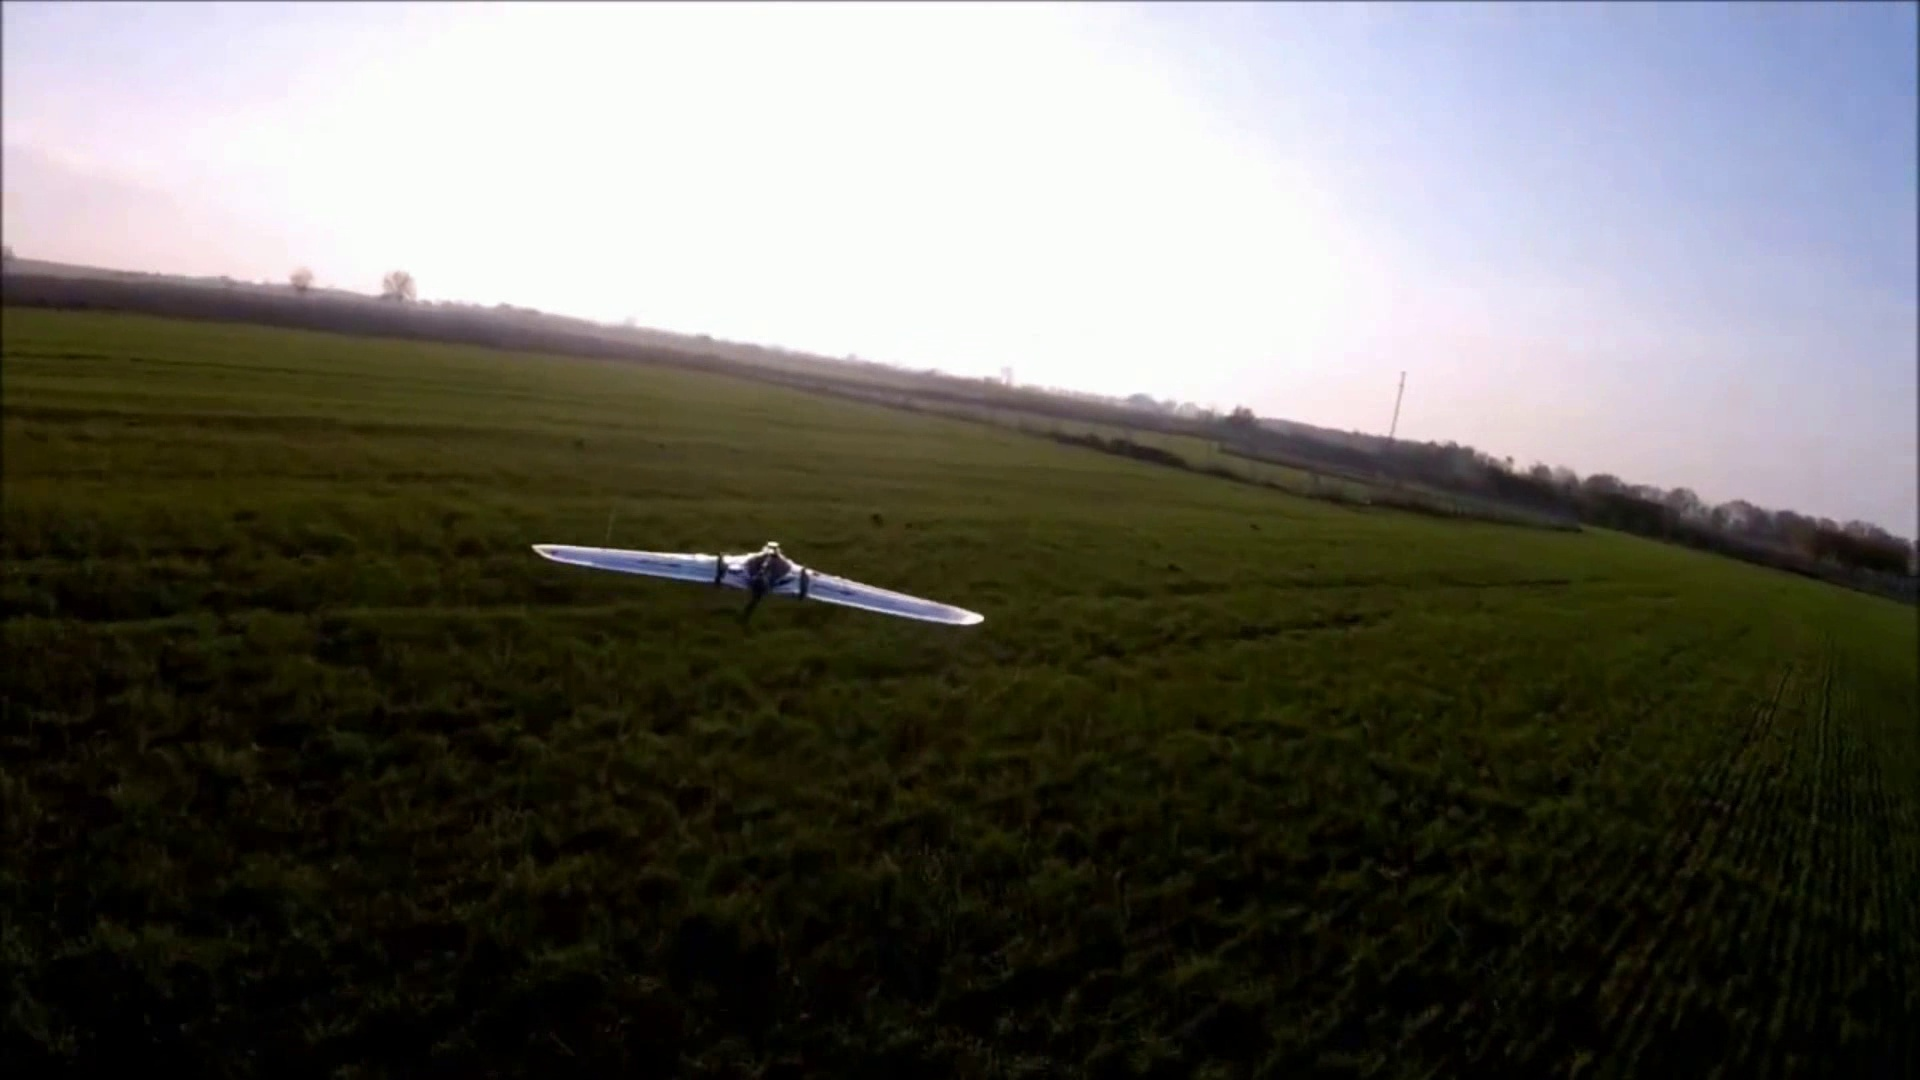airplane: (529, 540, 982, 633)
